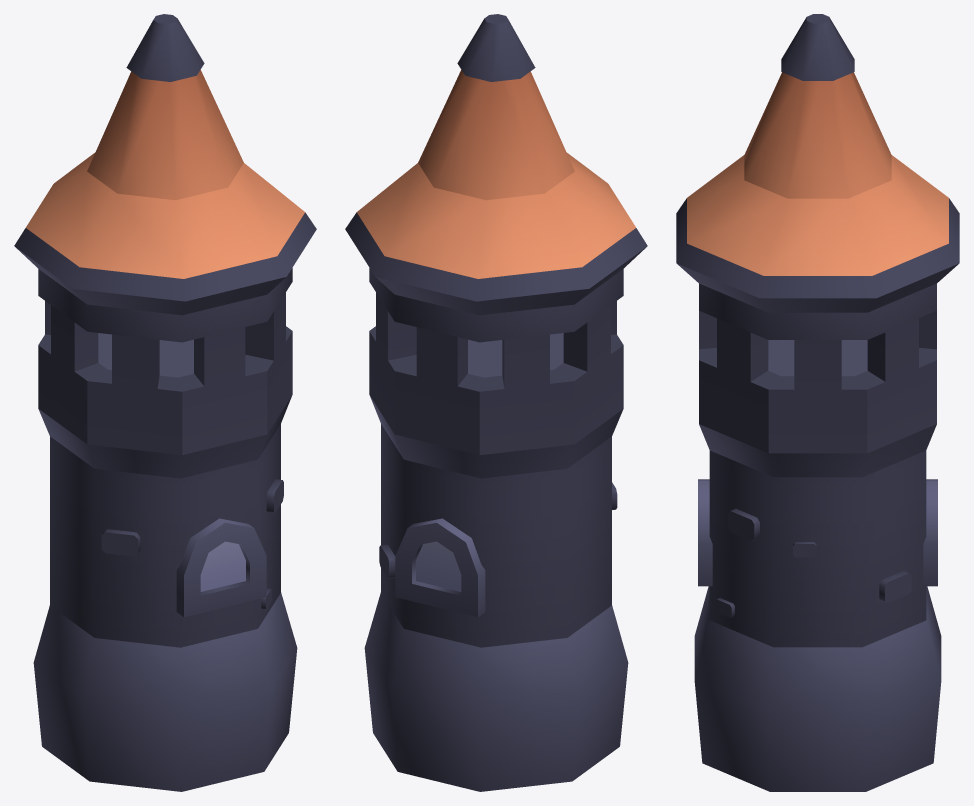
The model's file is tower-complete-large.fbx.
3 views of the same model, side by side, from view 1: azimuth 30°, elevation 25°; view 2: azimuth 150°, elevation 25°; view 3: azimuth 270°, elevation 25° (orthographic).
Visible parts, largest first — view 1: tower-complete-large; view 2: tower-complete-large; view 3: tower-complete-large.
Boxes of the visible parts, box(x1,y1,x2,y2) form: tower-complete-large: box(14, 14, 316, 791); tower-complete-large: box(345, 14, 647, 791); tower-complete-large: box(676, 14, 959, 791).
Size of the model in its own units: 363 by 1022 by 363.
